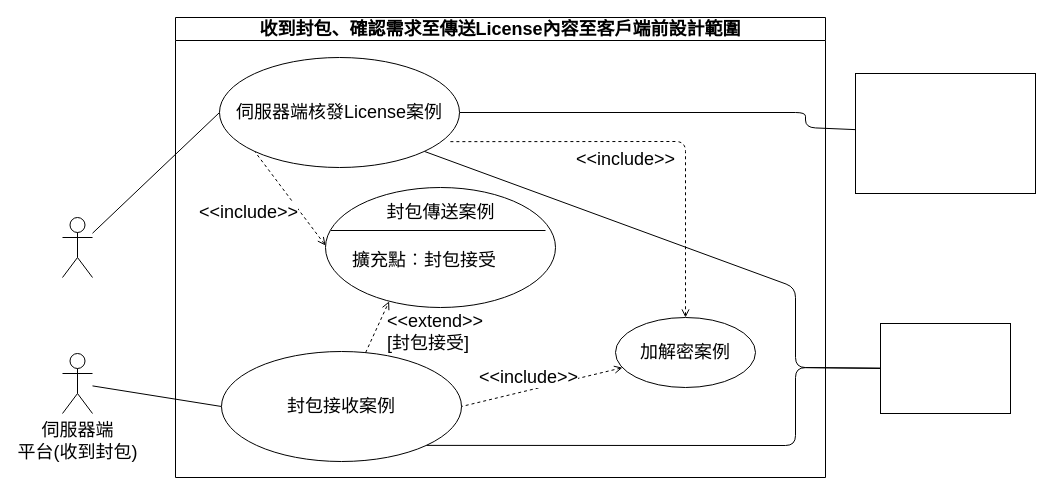
This 1053x495 diagram has some shape labels left out. Each missing label, with the box of its shape:
«actor» 伺服器端平台 linux OS: (854, 72, 1036, 194)
«actor» 資料庫: (880, 322, 1010, 414)
後端審核者: (62, 216, 92, 278)
